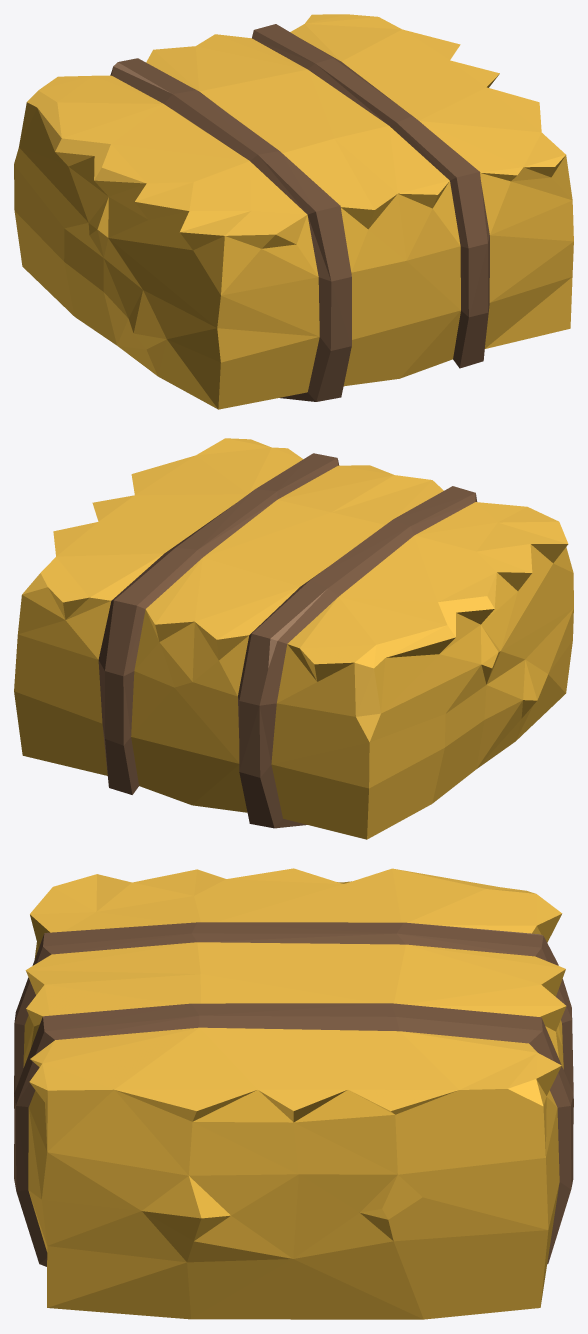
The model's file is EA_M_HayBale_Square_Yellow_01d.fbx.
3 renders of one model, top to bottom at view 1: azimuth 30°, elevation 25°; view 2: azimuth 150°, elevation 25°; view 3: azimuth 270°, elevation 25°, orthographic. The views are drawn at different scales.
Visible parts, largest first — view 1: EA_M_HayBale_Square_Yellow_01d_LOD0; view 2: EA_M_HayBale_Square_Yellow_01d_LOD0; view 3: EA_M_HayBale_Square_Yellow_01d_LOD0.
Part boxes in pixels (x1=…): EA_M_HayBale_Square_Yellow_01d_LOD0: x1=14, y1=14, x2=573, y2=409; EA_M_HayBale_Square_Yellow_01d_LOD0: x1=14, y1=438, x2=573, y2=839; EA_M_HayBale_Square_Yellow_01d_LOD0: x1=14, y1=868, x2=573, y2=1319.
Size of what is drawn, in the model's own units: 1.96 by 0.9856 by 1.87.
